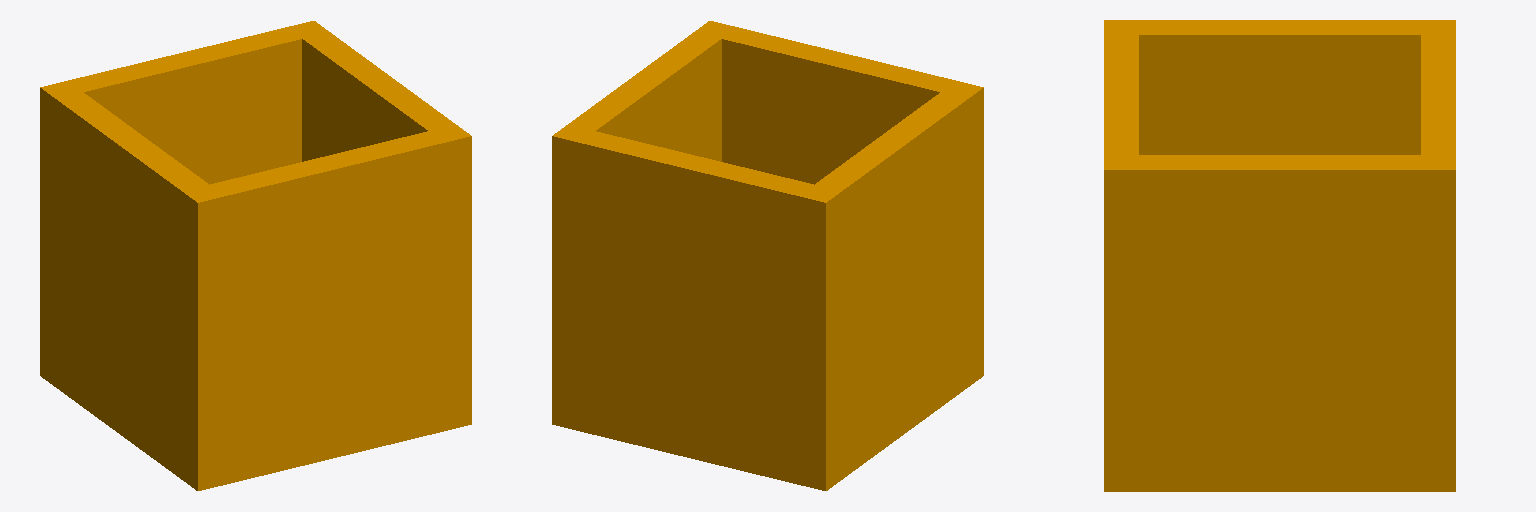
URDF robot description (object):
<?xml version="1.0"?>
<robot name="object">
  <link name="object">
    <visual>
      <origin xyz="0 0 0"/>
      <geometry>
        <mesh filename="cube.obj" scale="2 2 2"/>
      </geometry>
    </visual>
    <collision>
      <origin xyz="0 0 0"/>
      <geometry>
        <mesh filename="cube.obj" scale="2 2 2"/>
      </geometry>
    </collision>
     <inertial>
      <mass value="5.0"/>
      <inertia ixx="2.5" ixy="0.0" ixz="0.0" iyy="2.5" iyz="0.0" izz="2.5"/>
    </inertial>
  </link>
</robot>

--- What the picture shows (computed from the rendered views, not written in the file) ---
The picture shows the robot from 3 angles, left to right: view 1: azimuth 30°, elevation 25°; view 2: azimuth 150°, elevation 25°; view 3: azimuth 270°, elevation 25°; orthographic projection.
Model object with 1 links and 0 joints (none), rooted at object, posed every joint at zero.
Visible links, largest first — view 1: object; view 2: object; view 3: object.
Boxes of the visible links, x1,y1,x2,y2 form: object: (40, 21, 471, 490); object: (552, 21, 983, 490); object: (1104, 20, 1455, 491).
Bounding box of the posed robot: 0.0994 × 0.0992 × 0.1 m (x, y, z).
1 mesh visuals loaded from 1 distinct referenced files (1 OBJ).